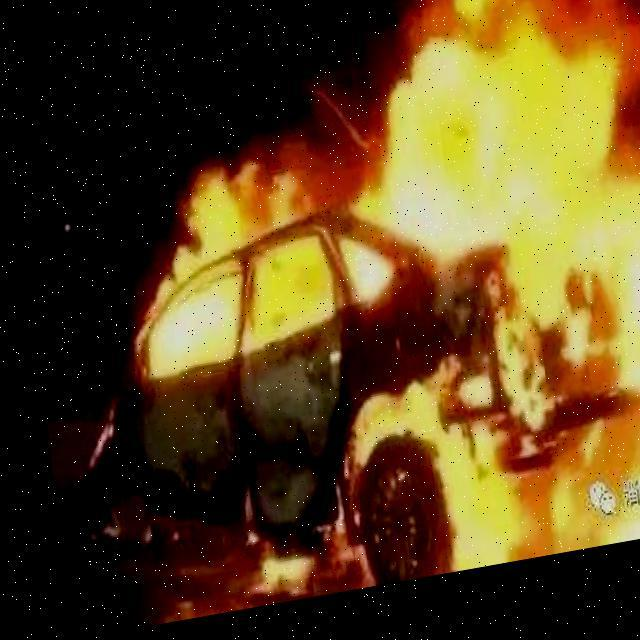Fire: (111, 0, 639, 617)
